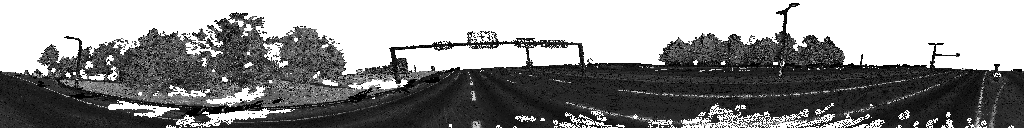gantry_sign_pole: (389, 32, 584, 72), (928, 43, 959, 67)
light_pole: (776, 4, 799, 81), (65, 36, 81, 78), (526, 49, 532, 71)
traffic_pole: (990, 65, 1003, 84)
